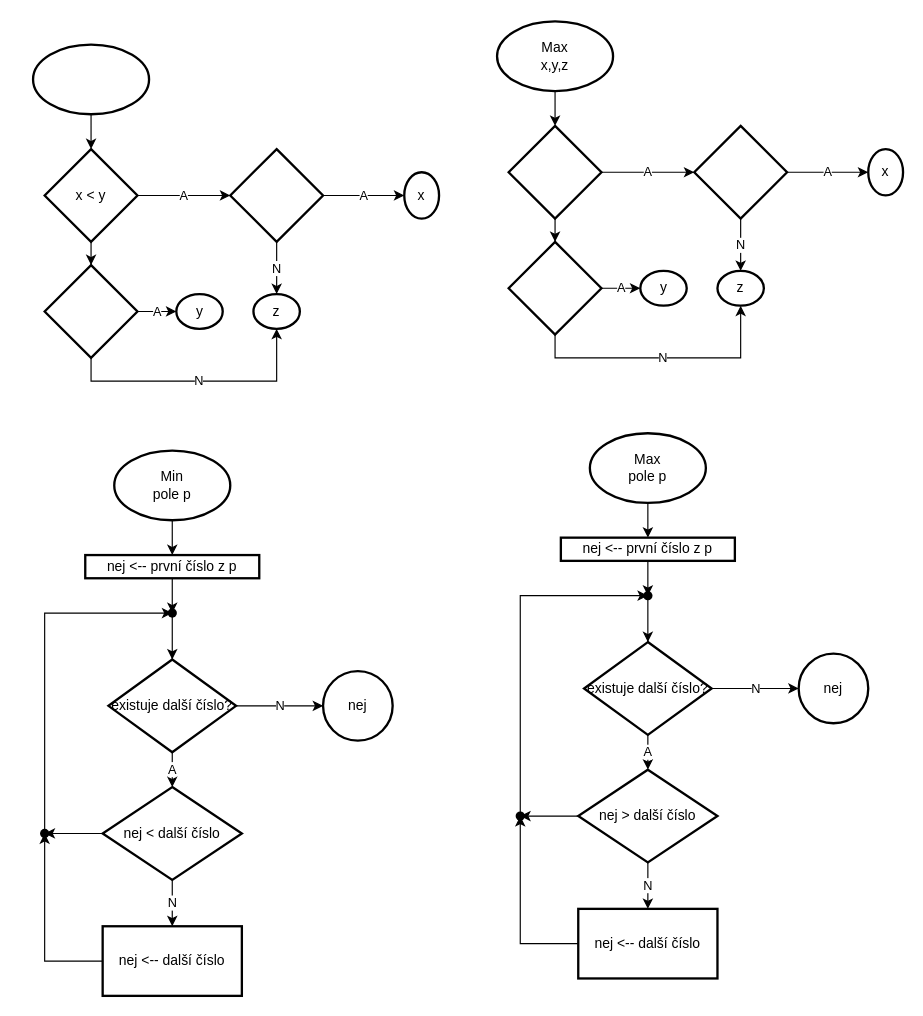
Some shapes in this 923 by 1016 pixel diagram are drawn without their labels. Each missing label, with the centre of its shape:
Min x,y,z: point (90, 79)
x < z: point (276, 194)
x > y: point (554, 171)
x > z: point (740, 171)
y < z: point (90, 310)
y > z: point (554, 287)
